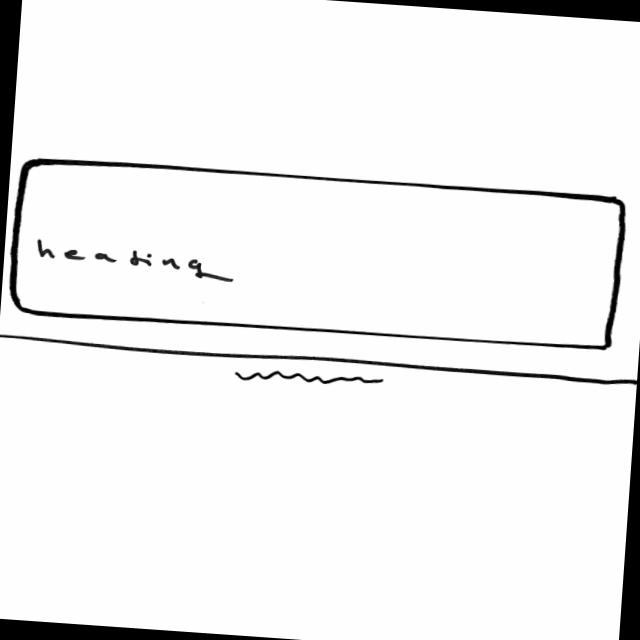container: (2, 154, 628, 356)
label: (36, 238, 236, 284)
text: (232, 366, 385, 392)
